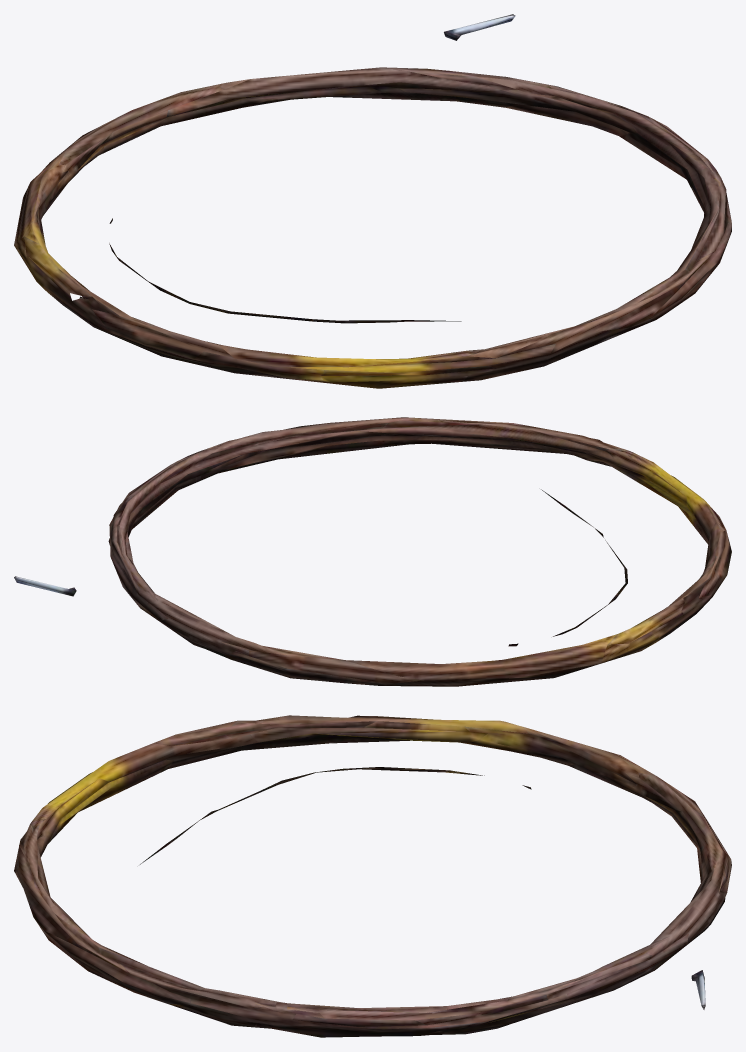
File: wiring.glb
The picture shows the model from 3 angles, top to bottom: view 1: azimuth 30°, elevation 25°; view 2: azimuth 150°, elevation 25°; view 3: azimuth 270°, elevation 25°; orthographic projection. The views are drawn at different scales.
Parts seen in each view (by area): view 1: wiring; view 2: wiring; view 3: wiring.
Boxes of the visible parts, x1=… form: wiring: x1=14, y1=14, x2=731, y2=388; wiring: x1=14, y1=417, x2=731, y2=686; wiring: x1=14, y1=715, x2=731, y2=1037.
Size of the model in its own units: 0.9794 by 0.0514 by 0.9664.
Materials: 1 (1 with a texture image).
